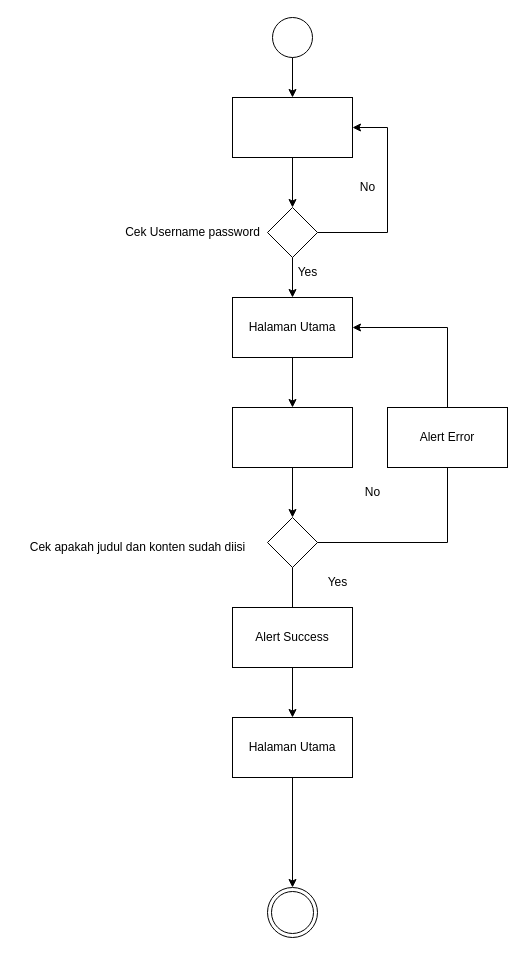
Image size: 525x955. Some labels were removed from this diagram. Here are the shapes that lost their labels. From the top down, the centre of each, then its label:
the point at 292,127: Login
the point at 292,437: Buat Postingan
